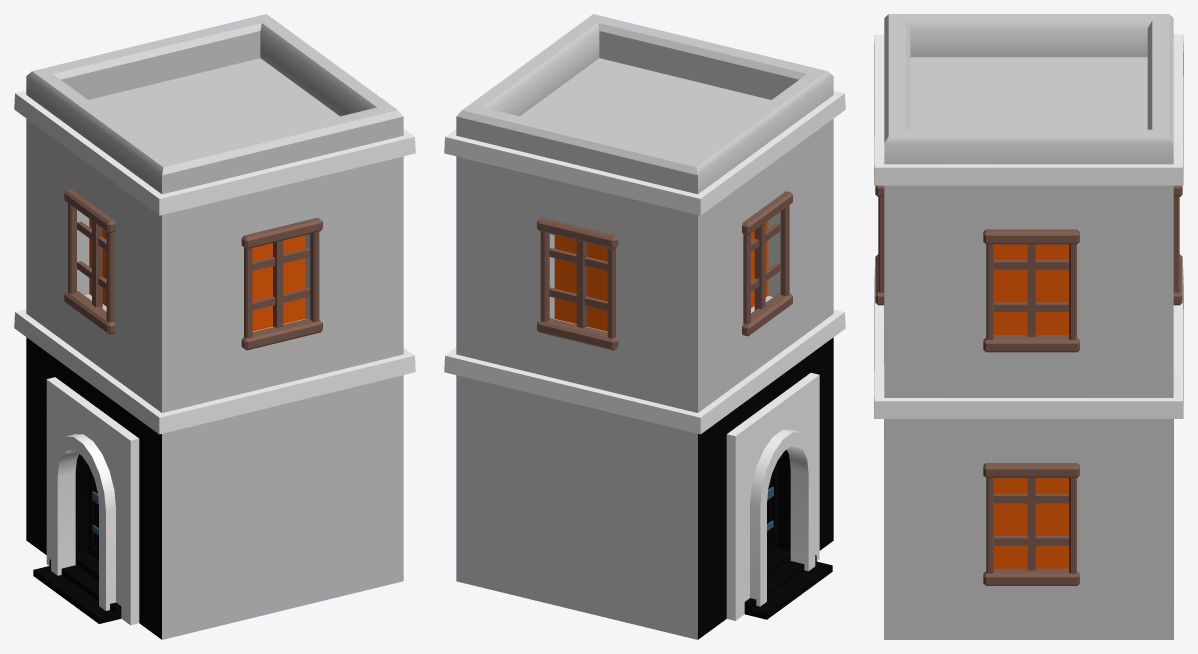
Rendered from civilian_house_35_d.FBX.
The picture shows the model from 3 angles, left to right: view 1: azimuth 30°, elevation 25°; view 2: azimuth 150°, elevation 25°; view 3: azimuth 270°, elevation 25°; orthographic projection. The views are drawn at different scales.
Visible parts, largest first — view 1: civilian_house_35_d_LOD0; view 2: civilian_house_35_d_LOD0; view 3: civilian_house_35_d_LOD0.
Part boxes in pixels (x1,y1,x2,y2): civilian_house_35_d_LOD0: (14,14,415,639); civilian_house_35_d_LOD0: (444,14,845,639); civilian_house_35_d_LOD0: (874,14,1183,639).
Size of what is drawn, in the model's own units: 536 by 860 by 481.
